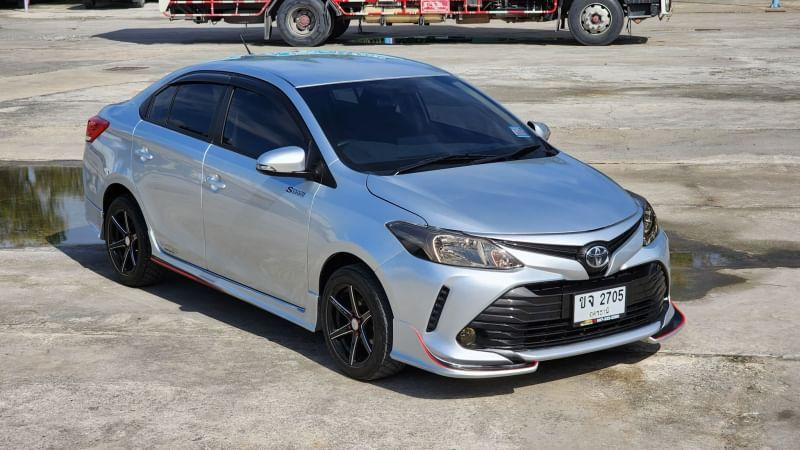license-plate: (566, 283, 634, 329)
